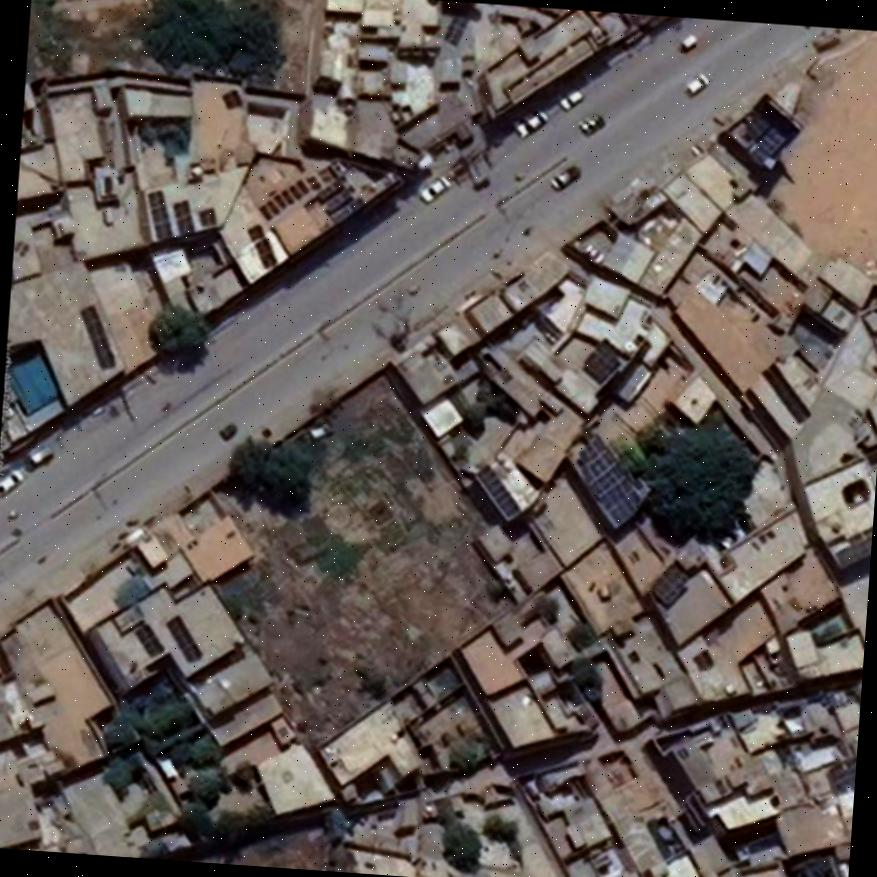Solarpanel: (578, 434, 644, 527), (473, 462, 516, 520), (80, 302, 112, 366), (582, 338, 620, 382), (163, 614, 199, 660), (653, 561, 686, 603), (148, 189, 168, 237), (133, 622, 160, 656), (173, 200, 194, 233)
